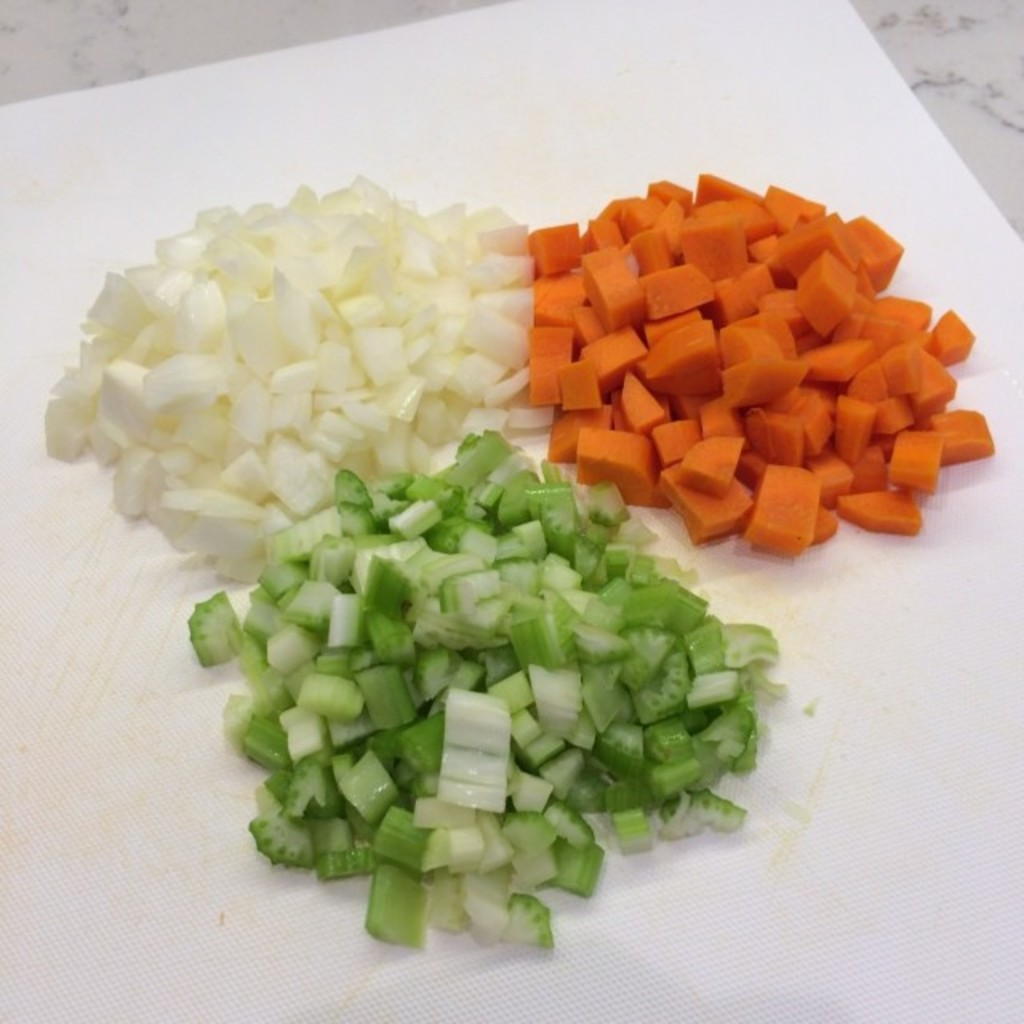Carrot: (515, 196, 964, 609)
